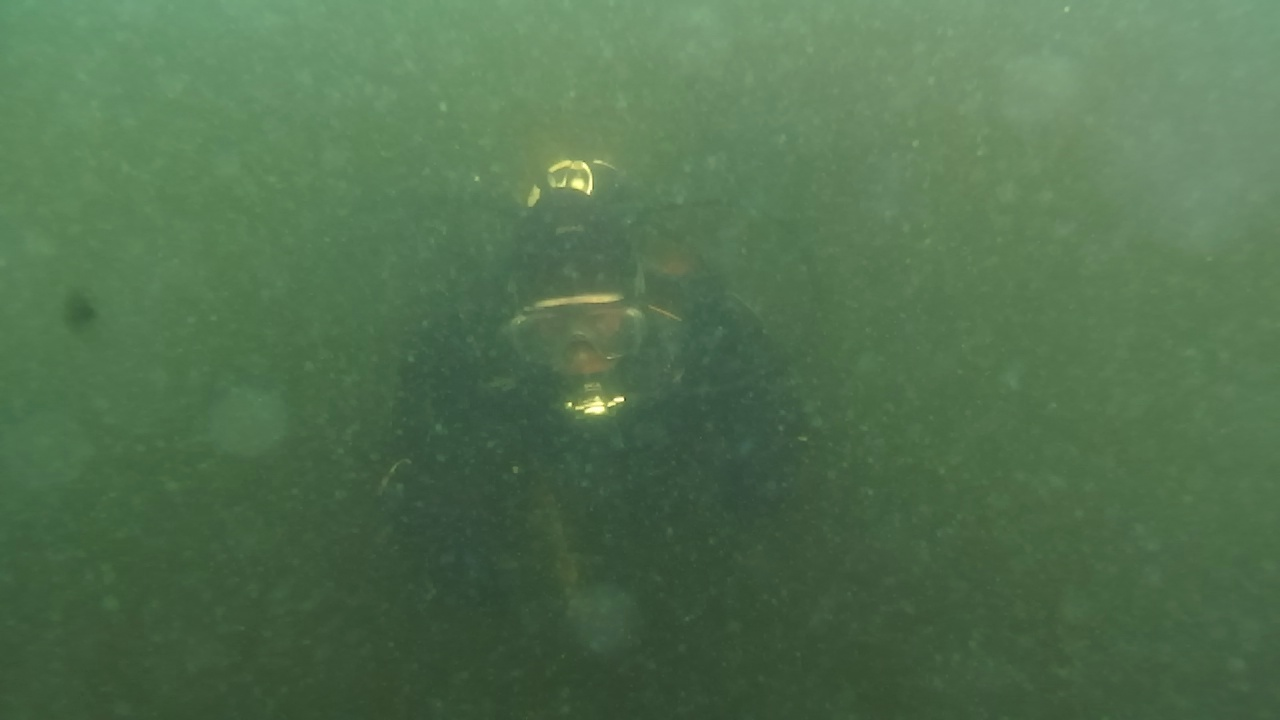Head: (442, 146, 722, 446)
